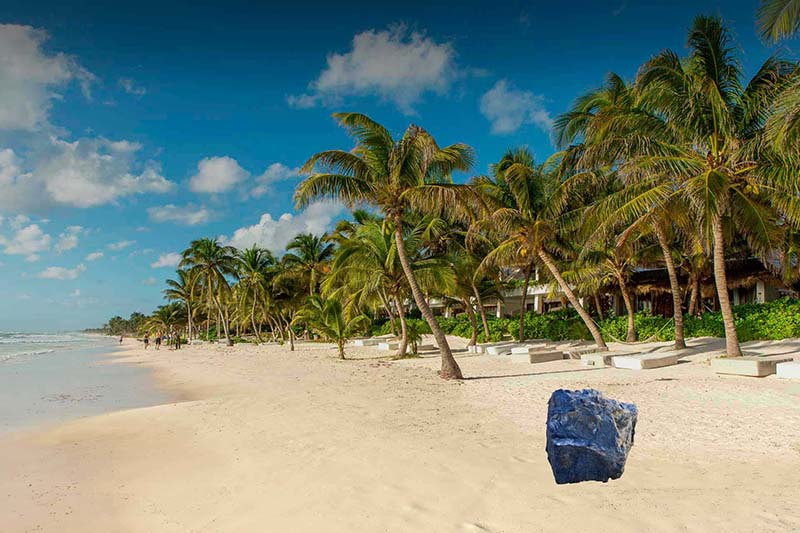Rocks: (537, 381, 640, 497)
